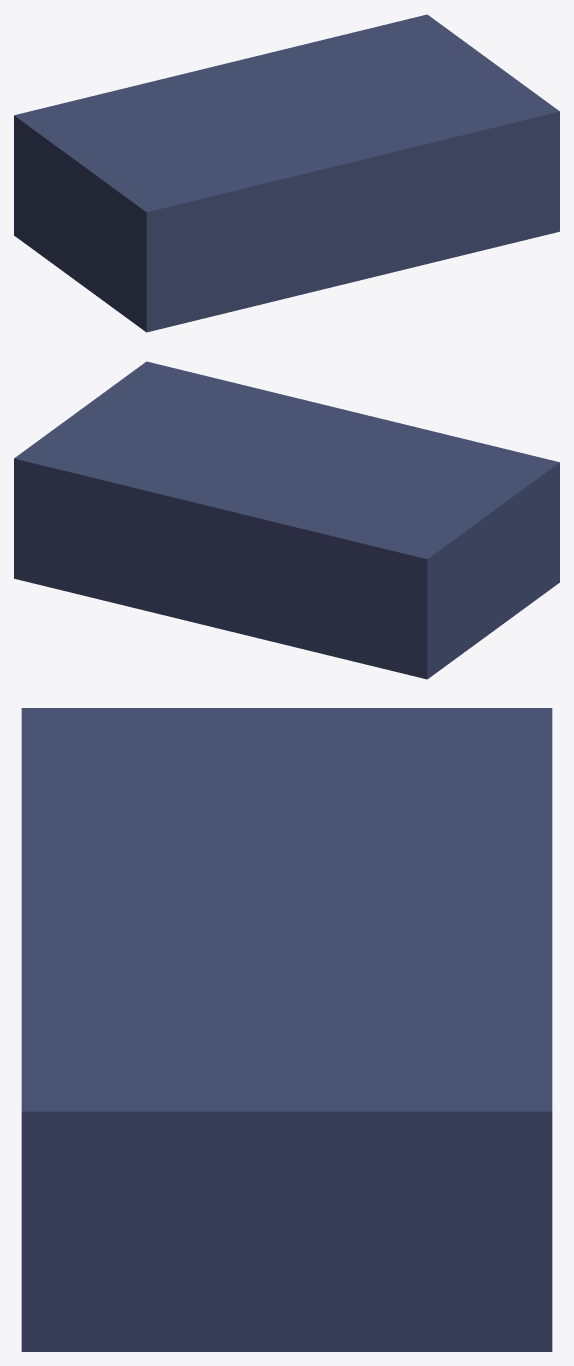
File: ninja_cintura.glb
3 renders of one model, top to bottom at view 1: azimuth 30°, elevation 25°; view 2: azimuth 150°, elevation 25°; view 3: azimuth 270°, elevation 25°, orthographic. The views are drawn at different scales.
Parts seen in each view (by area): view 1: ninja_cintura; view 2: ninja_cintura; view 3: ninja_cintura.
Part boxes in pixels (x1=…): ninja_cintura: x1=14, y1=14, x2=559, y2=332; ninja_cintura: x1=14, y1=361, x2=559, y2=679; ninja_cintura: x1=21, y1=708, x2=552, y2=1351.
Bounding box in the file's own units: 0.54 × 0.15 × 0.3.
